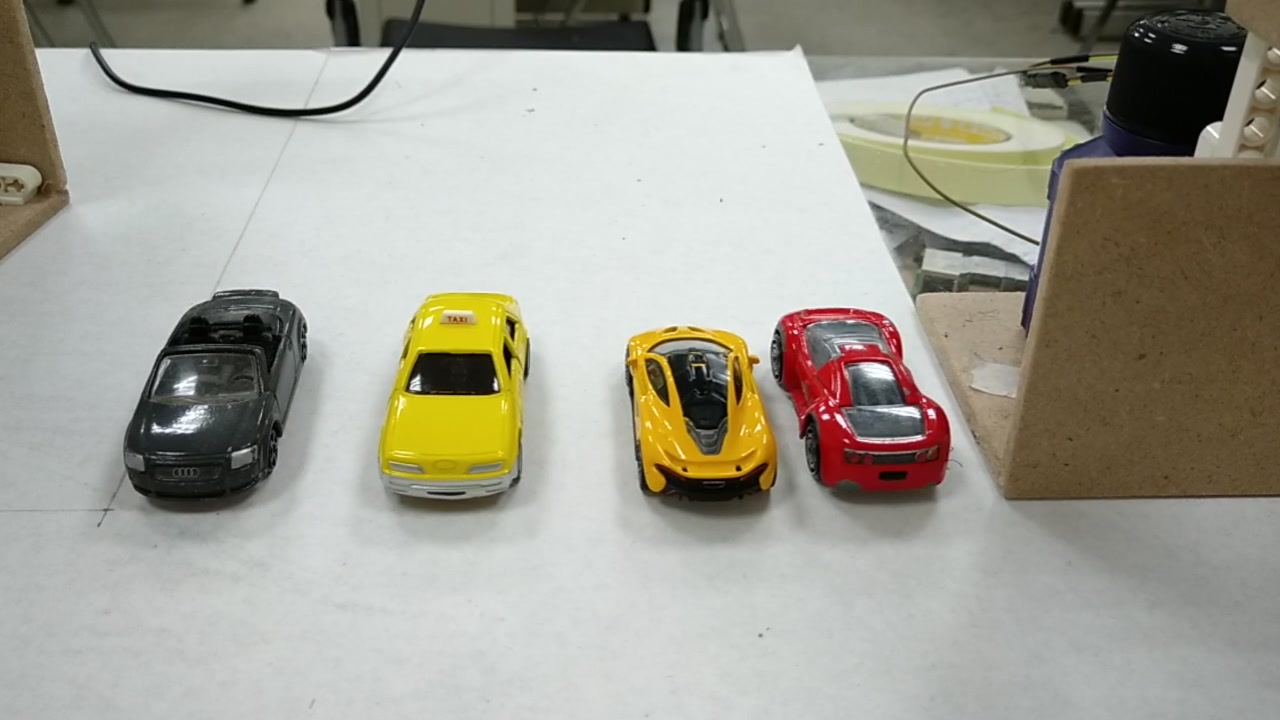car: (124, 294, 314, 496), (778, 316, 954, 504), (378, 296, 535, 502), (622, 331, 772, 498)
